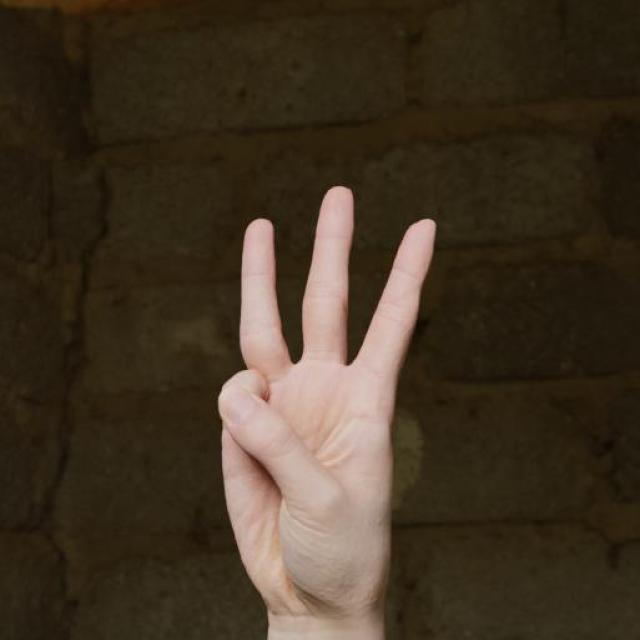W: (209, 178, 440, 624)
